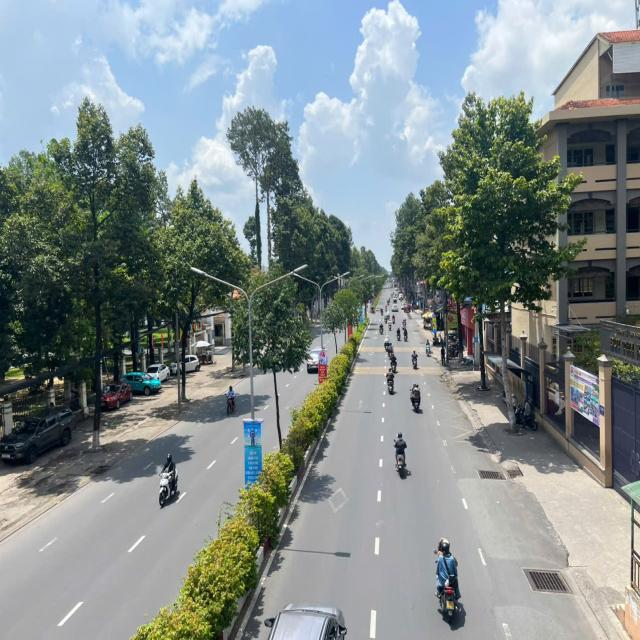car: (304, 346, 330, 374), (391, 302, 399, 313)
motobyte: (432, 536, 464, 624), (157, 451, 181, 515), (392, 428, 409, 482), (223, 383, 239, 417), (410, 379, 423, 414), (386, 367, 396, 396), (411, 346, 420, 371), (390, 354, 399, 376), (425, 339, 433, 359), (384, 334, 390, 353), (396, 326, 402, 342), (377, 322, 384, 334), (404, 325, 408, 342)
